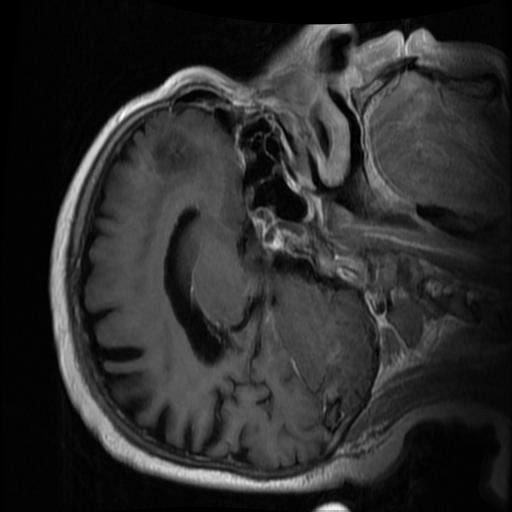glioma: (151, 129, 201, 178)
